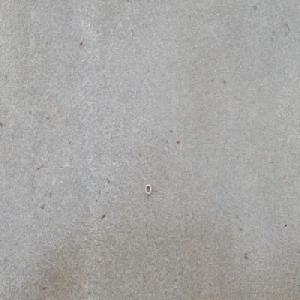Nut: (144, 183, 151, 195)
